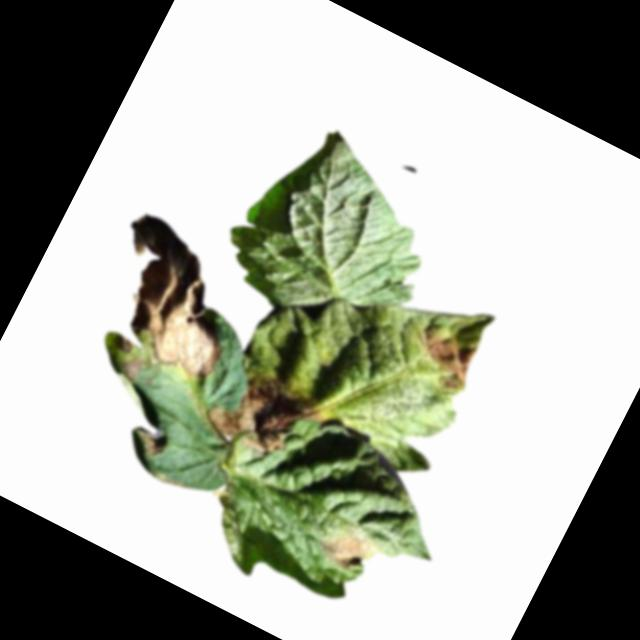Late_blight: (79, 206, 264, 384), (198, 357, 331, 476), (307, 508, 386, 583), (408, 322, 485, 396), (131, 421, 175, 462), (114, 352, 146, 389), (112, 331, 137, 353)
healthy: (207, 107, 466, 362)
